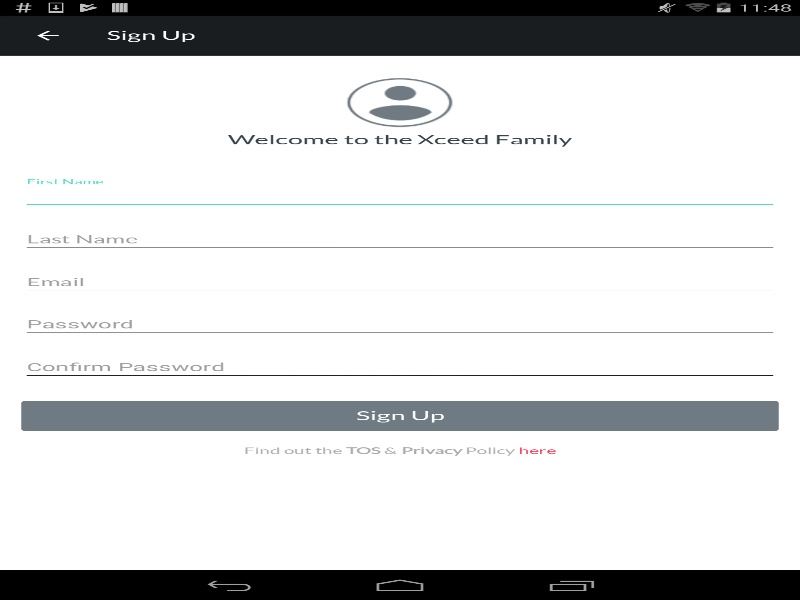Button: (21, 400, 778, 430), (10, 15, 85, 55)
Input: (21, 183, 778, 209), (21, 226, 778, 252), (21, 269, 778, 295), (21, 312, 778, 338), (21, 355, 778, 380)
